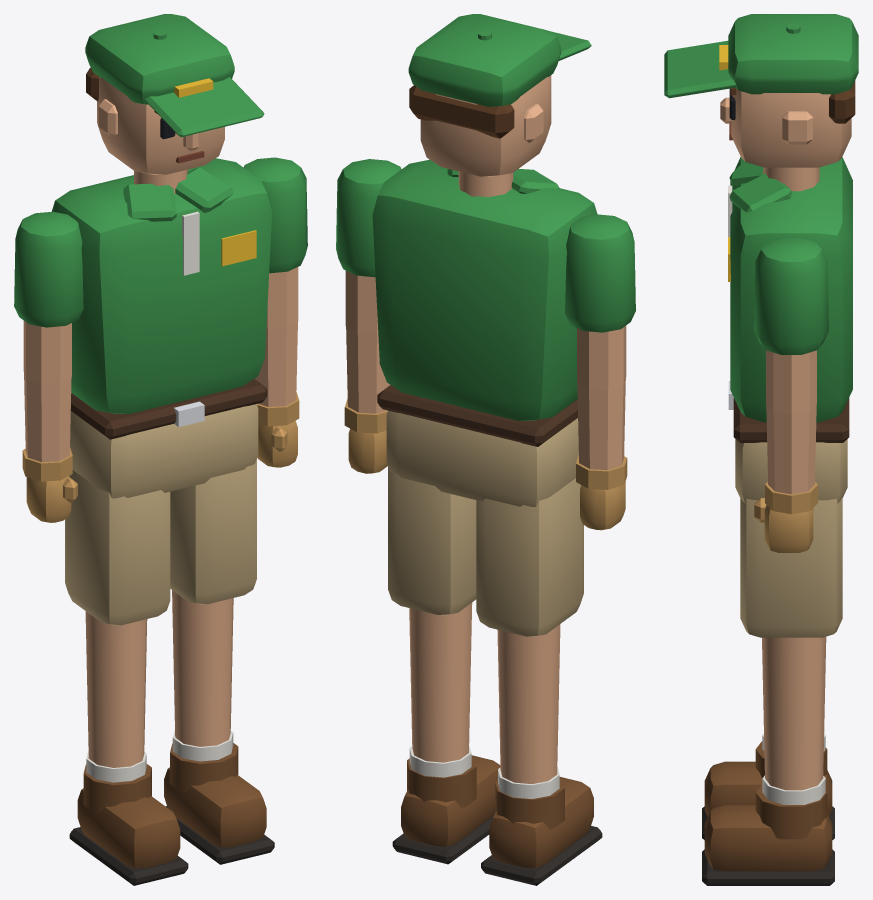
The model's file is char_worker.glb.
The picture shows the model from 3 angles, left to right: view 1: azimuth 30°, elevation 25°; view 2: azimuth 150°, elevation 25°; view 3: azimuth 270°, elevation 25°; orthographic projection. The views are drawn at different scales.
Visible parts, largest first — view 1: Torso, LegR, LegL, Head, ArmR, ArmL; view 2: Torso, LegR, LegL, Head, ArmR, ArmL; view 3: LegL, Torso, Head, ArmL, LegR.
Boxes of the visible parts, bbox=[...] form: Torso: bbox=[52, 158, 271, 498]; LegR: bbox=[65, 470, 188, 885]; LegL: bbox=[164, 459, 274, 864]; Head: bbox=[85, 14, 264, 174]; ArmR: bbox=[14, 211, 83, 522]; ArmL: bbox=[243, 157, 307, 467]; Torso: bbox=[372, 159, 597, 506]; LegR: bbox=[476, 478, 602, 885]; LegL: bbox=[388, 467, 500, 864]; Head: bbox=[408, 14, 591, 176]; ArmR: bbox=[565, 214, 635, 530]; ArmL: bbox=[336, 159, 401, 473]; LegL: bbox=[702, 498, 842, 885]; Torso: bbox=[728, 157, 852, 503]; Head: bbox=[664, 14, 858, 167]; ArmL: bbox=[754, 237, 828, 552]; LegR: bbox=[702, 733, 834, 839].
Bounding box in the file's own units: 0.6535 × 1.78 × 0.3805.
